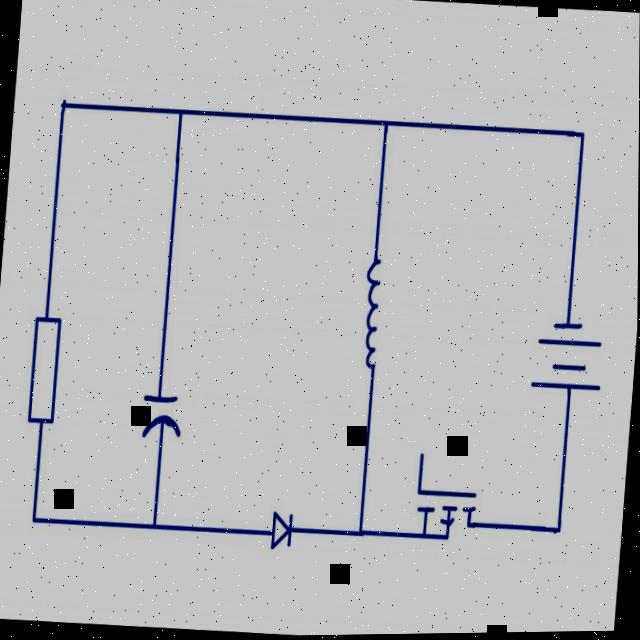capacitor: (124, 361, 200, 465)
diode: (250, 502, 308, 554)
inductor: (339, 241, 402, 392)
mosfet: (402, 443, 486, 567)
resistor: (19, 303, 66, 436)
source: (516, 292, 618, 422)
